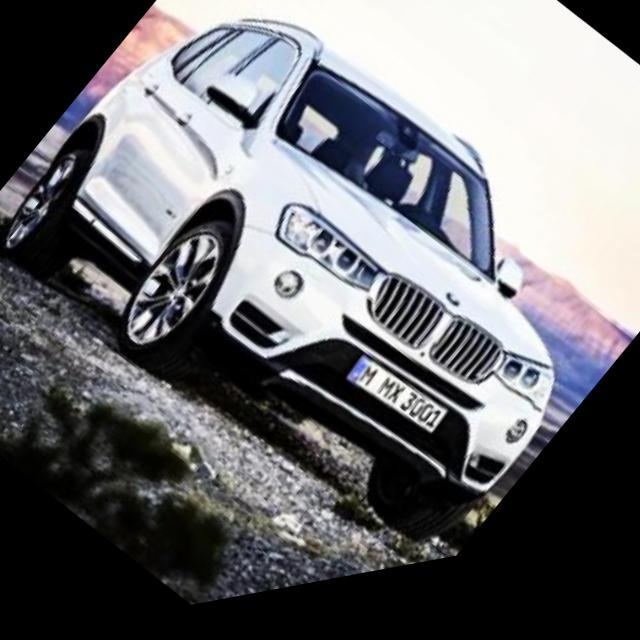license_plate: (342, 350, 450, 471)
